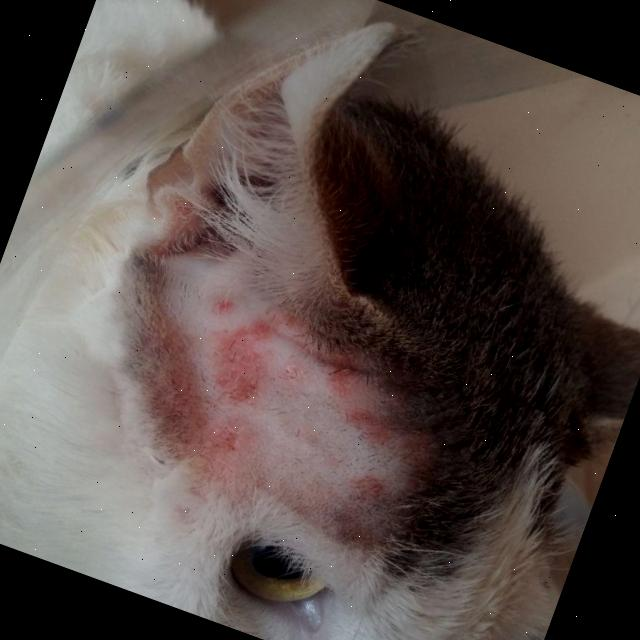cat-dermatitis: (185, 291, 308, 408), (301, 354, 418, 457), (200, 409, 281, 470), (340, 473, 388, 516)
